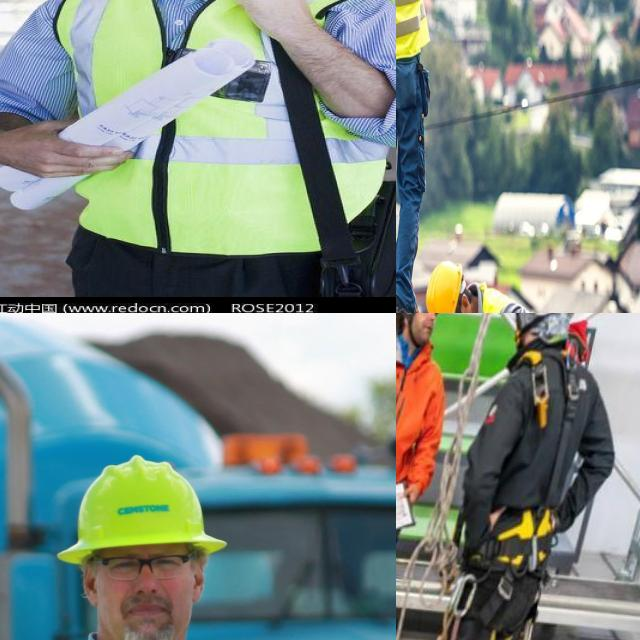Harness: (471, 343, 589, 572)
No_Ear-Protection: (80, 561, 102, 606), (189, 553, 209, 599)
face_nomask: (85, 545, 196, 640)
glasses: (100, 550, 196, 587)
hand_noglove: (3, 111, 132, 181), (221, 0, 321, 39)
head_helmet: (64, 458, 221, 552), (425, 257, 463, 313)
person: (0, 0, 396, 298), (0, 449, 326, 640), (396, 0, 429, 313), (425, 262, 557, 313)
shoes: (396, 288, 423, 313)
vest: (52, 0, 381, 253)
